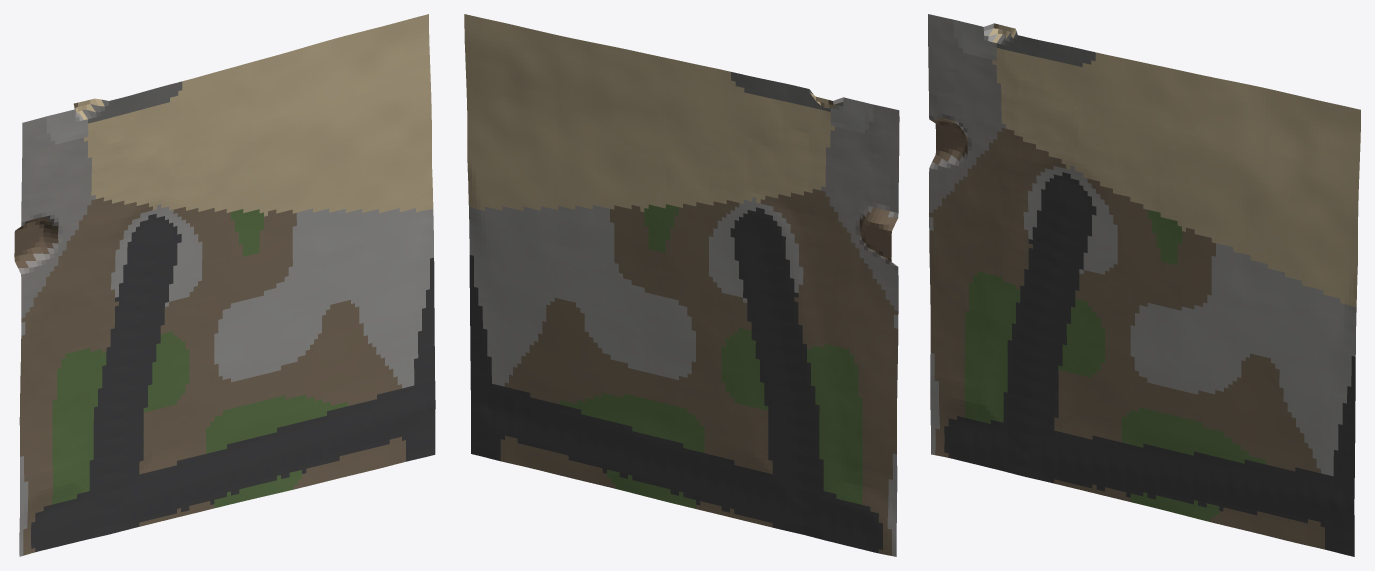
The model's file is SARM_SAR_Terrain_04_02.glb.
The picture shows the model from 3 angles, left to right: view 1: azimuth 30°, elevation 25°; view 2: azimuth 150°, elevation 25°; view 3: azimuth 330°, elevation 25°; orthographic projection.
Visible parts, largest first — view 1: SAR_Terrain_04_02.001; view 2: SAR_Terrain_04_02.001; view 3: SAR_Terrain_04_02.001.
Part boxes in pixels (x1,y1,x2,y2): SAR_Terrain_04_02.001: (14,14,435,556); SAR_Terrain_04_02.001: (464,14,899,556); SAR_Terrain_04_02.001: (928,14,1360,556).
Bounding box in the file's own units: 50 × 50 × 2.07.
